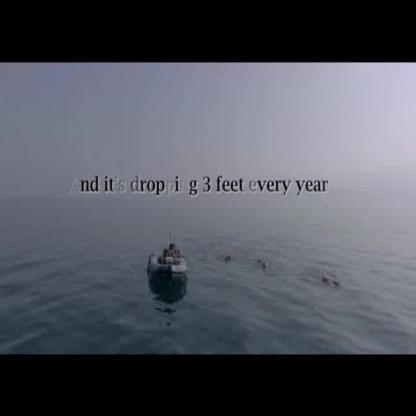Boat: (144, 237, 189, 290)
